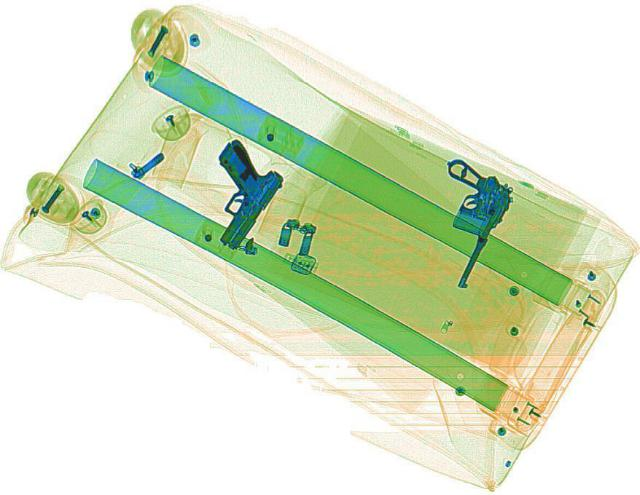Gun: (393, 155, 525, 288), (166, 137, 296, 250)
